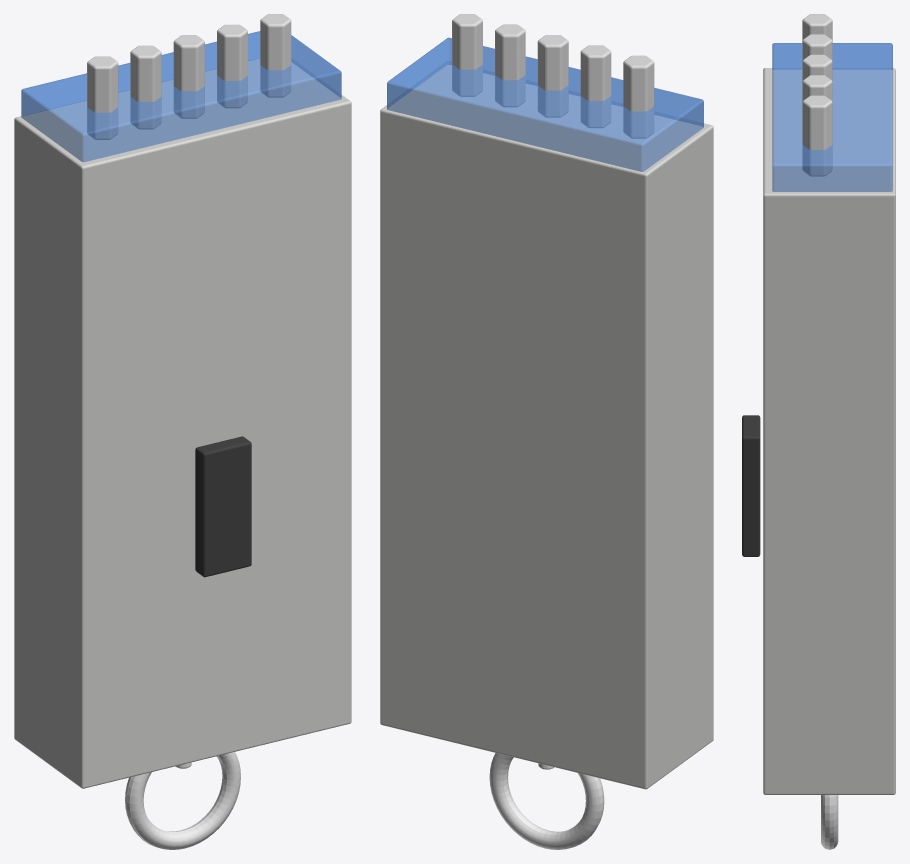
File: portallavero.glb
3 views of the same model, side by side, from view 1: azimuth 30°, elevation 25°; view 2: azimuth 150°, elevation 25°; view 3: azimuth 270°, elevation 25° (orthographic). The views are drawn at different scales.
Parts seen in each view (by area): view 1: Portallavero; view 2: Portallavero; view 3: Portallavero.
Part boxes in pixels (<box>): Portallavero: <box>14,14,351,849</box>; Portallavero: <box>380,14,713,849</box>; Portallavero: <box>742,14,895,849</box>.
Size of the model in its own units: 0.5 by 1.44 by 0.255.
